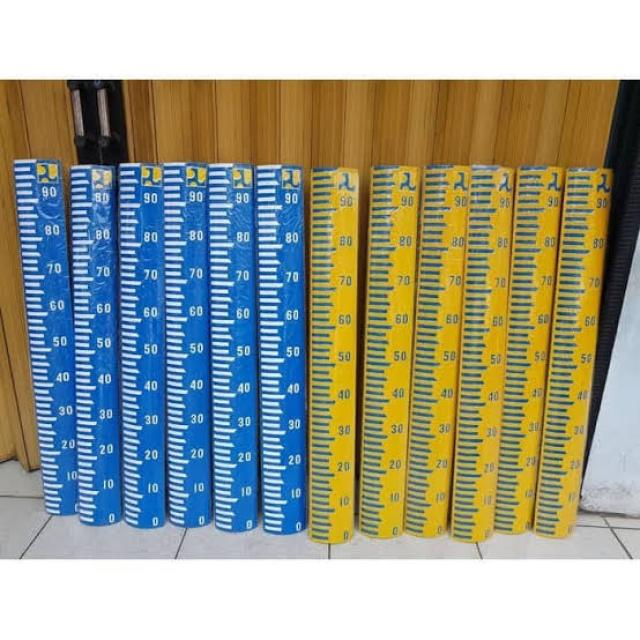staff: (542, 140, 613, 578), (16, 161, 78, 514), (360, 163, 416, 553), (456, 152, 507, 556), (306, 166, 360, 540), (211, 163, 261, 531), (118, 161, 166, 525)
